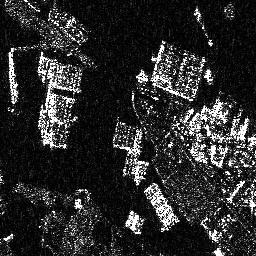ship: (191, 6, 214, 49)
